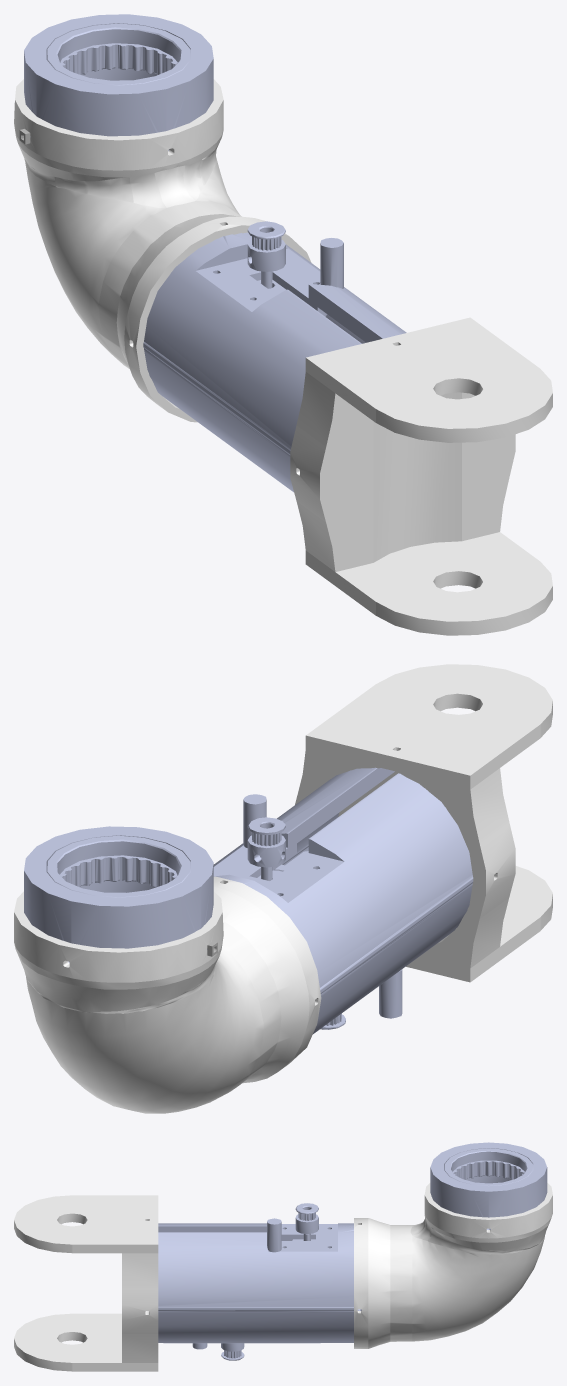
File: forearm_link.glb
The picture shows the model from 3 angles, top to bottom: view 1: azimuth 30°, elevation 25°; view 2: azimuth 150°, elevation 25°; view 3: azimuth 270°, elevation 25°; orthographic projection. The views are drawn at different scales.
Parts seen in each view (by area): view 1: forearm_link; view 2: forearm_link; view 3: forearm_link.
Part boxes in pixels (left/top/right/bottom): forearm_link: left=14, top=14, right=552, bottom=635; forearm_link: left=14, top=664, right=552, bottom=1113; forearm_link: left=14, top=1142, right=552, bottom=1371.
Bounding box in the file's own units: 0.096 × 0.144 × 0.3695.
